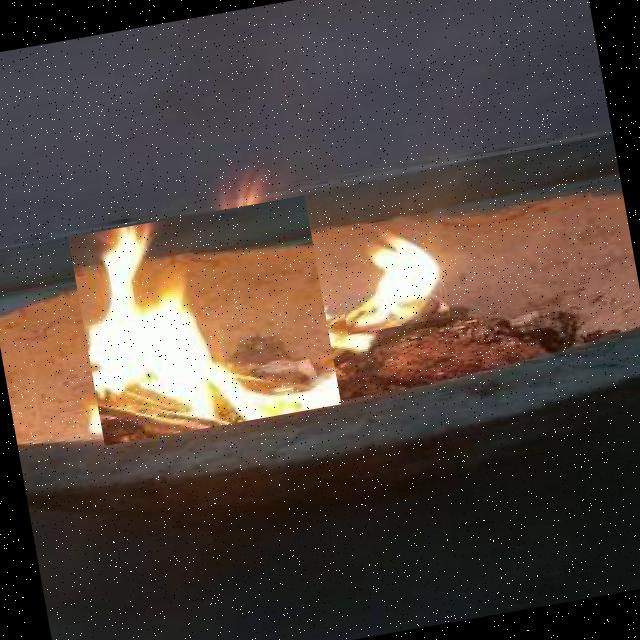fire: (68, 195, 341, 445), (326, 196, 451, 334)
